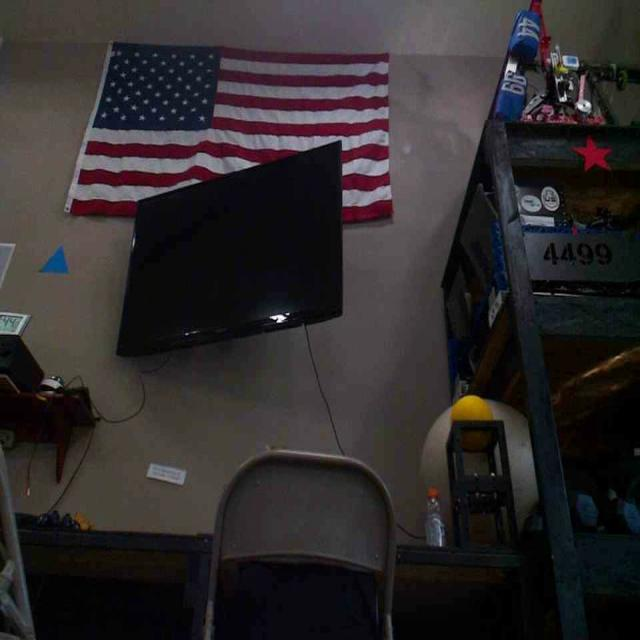star_red: (572, 138, 611, 169)
triangle_blue: (36, 243, 68, 272)
